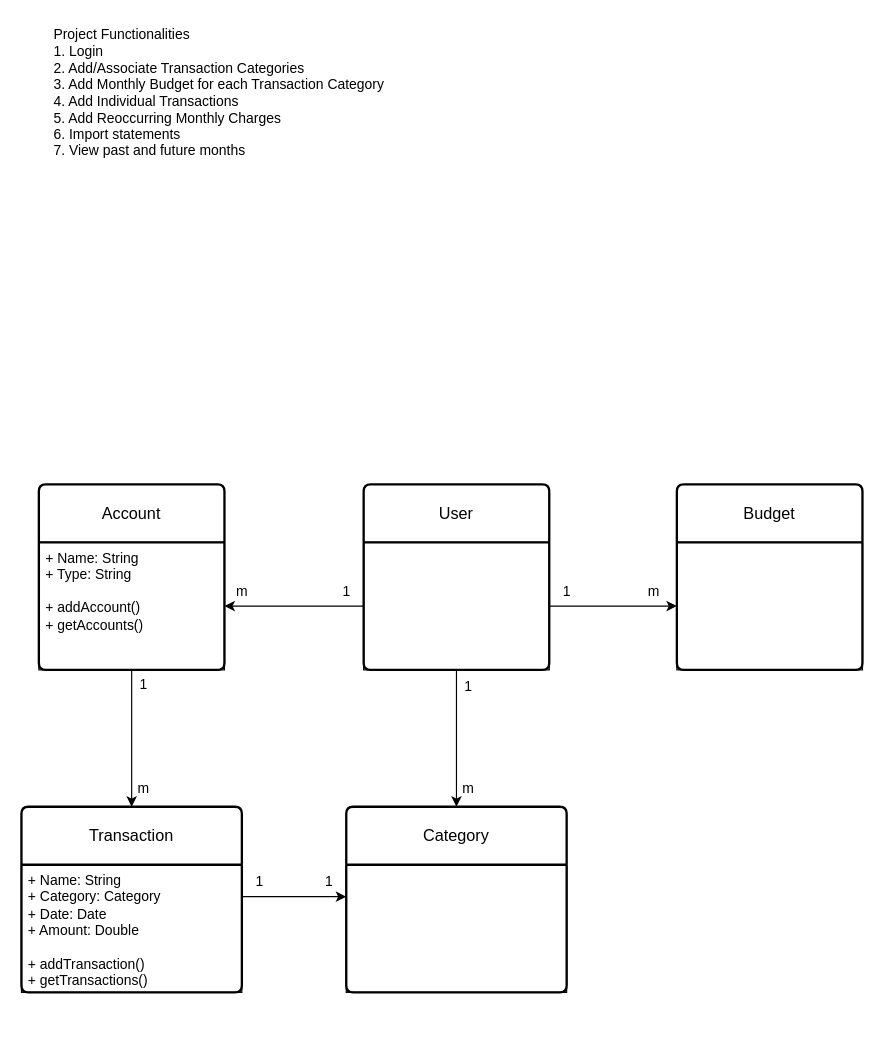
The diagram is 883 pixels wide and 1059 high, and some of its shapes have lost their labels. The centre of each missing label's shape, as x and y in pixels:
"+ ID: GUID + Name: String + addCategory() + getCategories()" belongs at (456,928).
"+ Month: String + AmountBudgeted: Double + AmountLeft: Double" belongs at (769,605).
"- ID: GUID + UserName: String + FirstName: String" belongs at (455,605).
